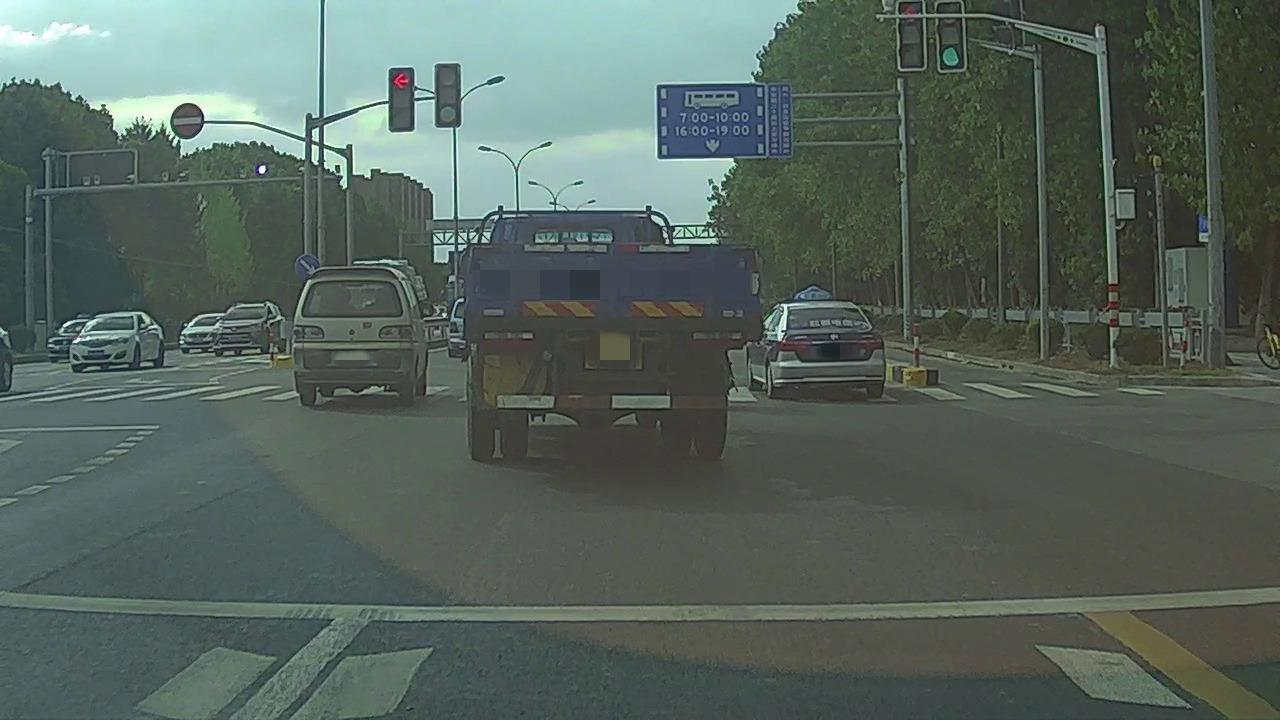traffic_light: (935, 3, 967, 70), (898, 1, 928, 68), (433, 62, 460, 127), (391, 63, 414, 131)
